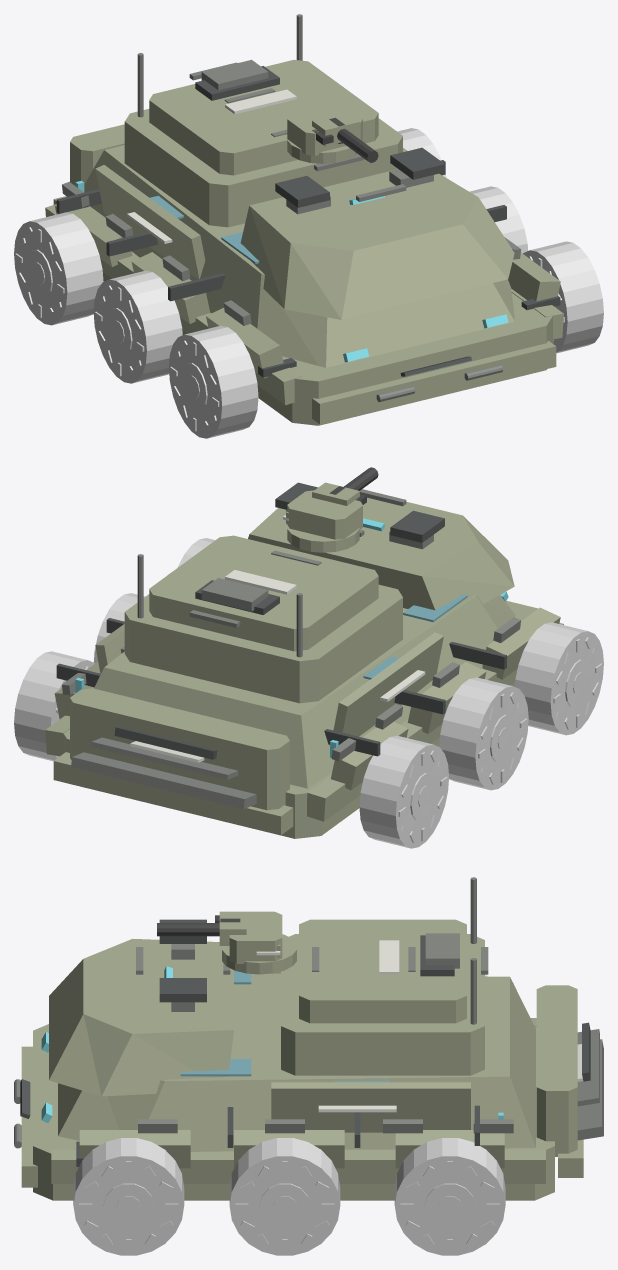
File: apc_articulated.glb
The picture shows the model from 3 angles, top to bottom: view 1: azimuth 30°, elevation 25°; view 2: azimuth 150°, elevation 25°; view 3: azimuth 270°, elevation 25°; orthographic projection. The views are drawn at different scales.
Visible parts, largest first — view 1: hull, wheel_left, dark_panel_details, wheel_right, bolts_details, turret, team_body, barrel, emissive, glass; view 2: hull, wheel_left, dark_panel_details, bolts_details, wheel_right, rear_ramp, turret, team_body, glass, barrel; view 3: hull, wheel_right, bolts_details, dark_panel_details, turret, rear_ramp, team_body, glass, barrel.
Boxes of the visible parts, bbox=[...] form: hull: bbox=[45, 59, 563, 425]; wheel_left: bbox=[14, 212, 258, 438]; dark_panel_details: bbox=[56, 66, 560, 377]; wheel_right: bbox=[397, 128, 603, 353]; bolts_details: bbox=[62, 14, 521, 402]; turret: bbox=[287, 104, 362, 163]; team_body: bbox=[127, 89, 296, 243]; barrel: bbox=[312, 117, 378, 162]; emissive: bbox=[75, 180, 508, 362]; glass: bbox=[150, 195, 259, 264]; hull: bbox=[45, 497, 563, 838]; wheel_left: bbox=[359, 622, 603, 848]; dark_panel_details: bbox=[56, 482, 506, 759]; bolts_details: bbox=[62, 489, 520, 761]; wheel_right: bbox=[14, 538, 215, 761]; rear_ramp: bbox=[71, 737, 256, 809]; turret: bbox=[286, 482, 362, 552]; team_body: bbox=[130, 570, 425, 762]; glass: bbox=[363, 594, 467, 679]; barrel: bbox=[330, 467, 378, 504]; hull: bbox=[21, 919, 583, 1200]; wheel_right: bbox=[73, 1138, 505, 1255]; bolts_details: bbox=[14, 877, 513, 1148]; dark_panel_details: bbox=[20, 919, 590, 1166]; turret: bbox=[219, 911, 296, 974]; rear_ramp: bbox=[577, 1029, 603, 1140]; team_body: bbox=[318, 940, 583, 1112]; glass: bbox=[180, 970, 389, 1082]; barrel: bbox=[157, 915, 240, 936].
Size of the model in its own units: 5.1 by 2.92 by 6.5.
